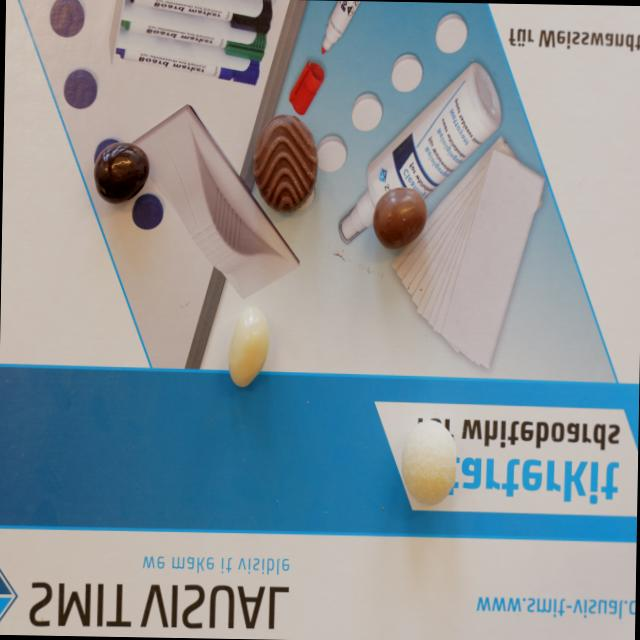Comtesse: (402, 418, 458, 504)
Jelly_Black: (93, 144, 149, 202)
Jelly_Milk: (373, 188, 428, 250)
Jelly_White: (228, 304, 270, 386)
Noir_authentique: (253, 113, 318, 212)
